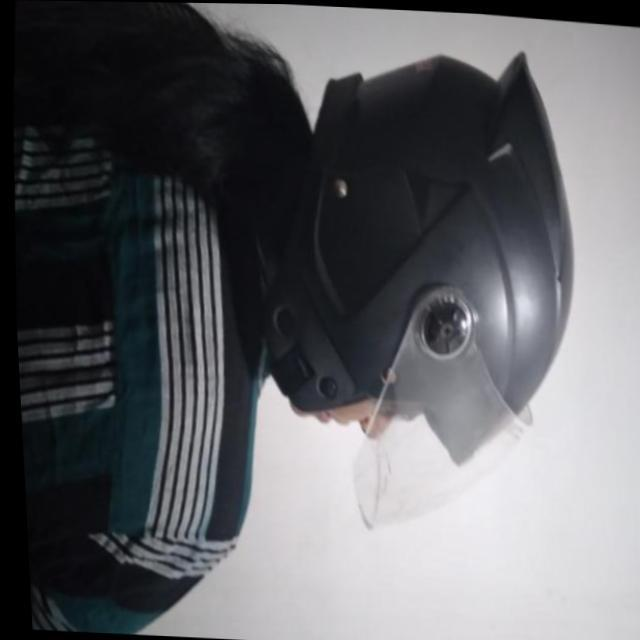with_helmet: (263, 52, 577, 509)
